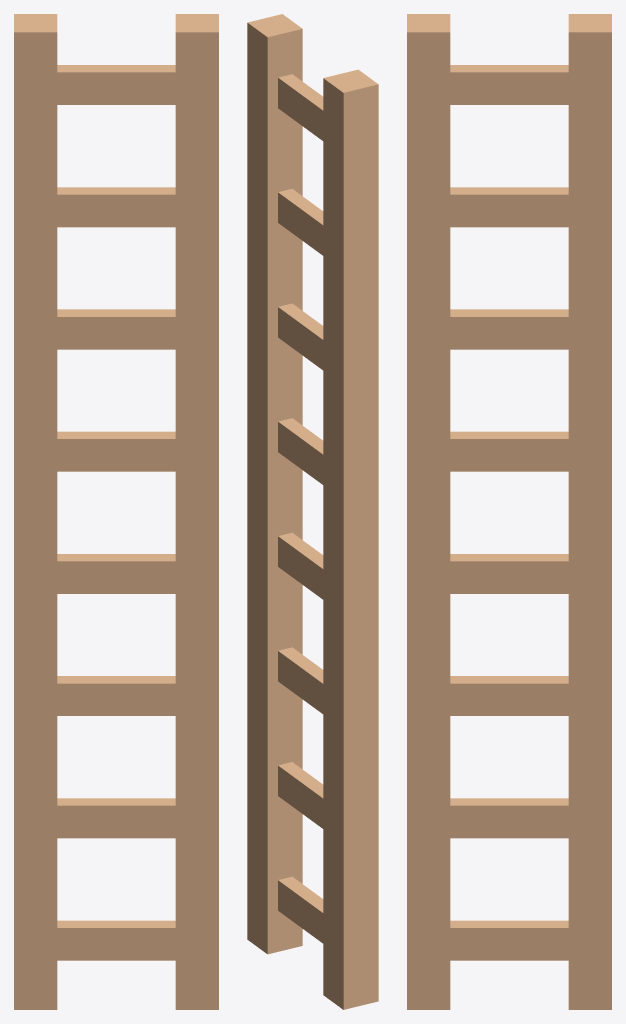
File: ladderlong.glb
The picture shows the model from 3 angles, left to right: view 1: azimuth 90°, elevation 25°; view 2: azimuth 210°, elevation 25°; view 3: azimuth 270°, elevation 25°; orthographic projection. The views are drawn at different scales.
Visible parts, largest first — view 1: ladderLong(Clone); view 2: ladderLong(Clone); view 3: ladderLong(Clone).
Part boxes in pixels (x1,y1,x2,y2): ladderLong(Clone): (14, 14, 218, 1009); ladderLong(Clone): (247, 14, 378, 1009); ladderLong(Clone): (407, 14, 611, 1009).
Bounding box in the file's own units: 0.0801 × 2 × 0.3799.
